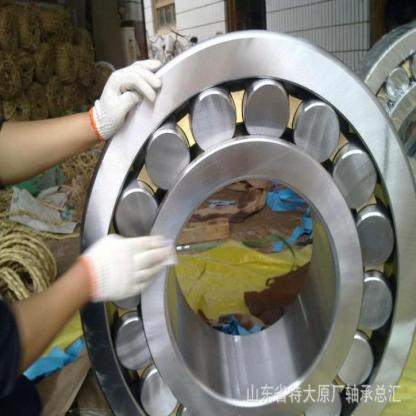FOD: (75, 25, 415, 415), (80, 137, 80, 138)
